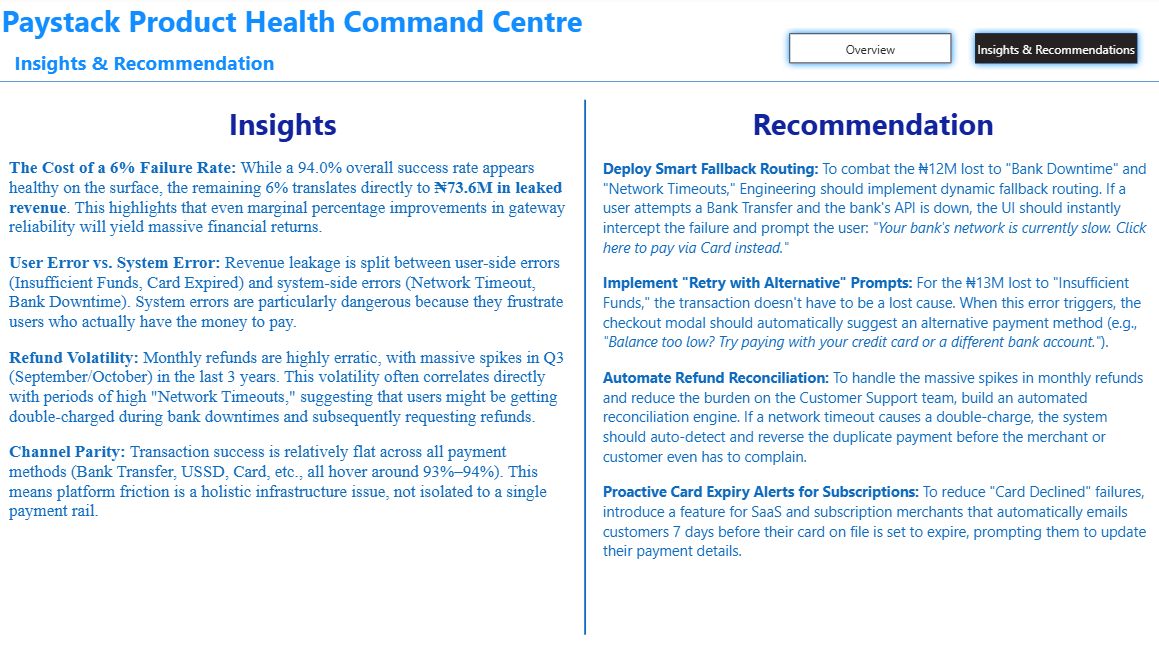

This screenshot's page, from the dashboard's own definition file:
{"tool":"powerbi","page":{"name":"Insights & Recommendations","canvas":[1280,720],"ordinal":1},"visuals":[{"type":"shape","box":[0,0,1280,94.7],"z":0},{"type":"textbox","box":[0,0,727.3,64.5],"z":1000},{"type":"textbox","box":[8.2,53.5,307.4,38.4],"z":6000},{"type":"textbox","box":[175.6,113.9,275.8,59],"z":7000},{"type":"textbox","box":[761.6,113.9,400.7,59],"z":8000},{"type":"shape","box":[631.2,113.9,28.8,587.3],"z":9000},{"type":"textbox","box":[660,172.9,612,528.3],"z":10000},{"type":"textbox","box":[8.2,172.9,623,528.3],"z":10001},{"type":"pageNavigator","box":[861.8,32.9,399.3,49.4],"z":10002}]}

Visuals, with their boxes in screenshot pixels (x1, y1, x2, y2), scaled from the page's 1280x720 canvas onto the 1159x646 screenshot:
shape: [0,0,1158,85]
textbox: [0,0,659,58]
textbox: [7,48,286,82]
textbox: [159,102,409,155]
textbox: [690,102,1052,155]
shape: [572,102,598,629]
textbox: [598,155,1152,629]
textbox: [7,155,572,629]
pageNavigator: [780,30,1142,74]
